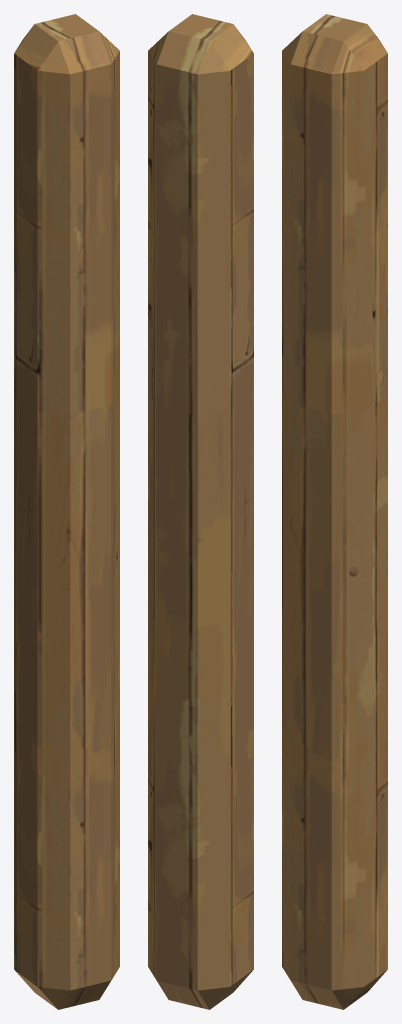
File: wood_deco1_cute.glb
3 renders of one model, left to right at view 1: azimuth 30°, elevation 25°; view 2: azimuth 150°, elevation 25°; view 3: azimuth 330°, elevation 25°, orthographic.
Parts seen in each view (by area): view 1: wood_deco4; view 2: wood_deco4; view 3: wood_deco4.
Boxes of the visible parts, x1,y1,x2,y2 form: wood_deco4: (14, 14, 119, 1009); wood_deco4: (148, 14, 253, 1009); wood_deco4: (282, 14, 387, 1009).
Size of the model in its own units: 0.0665 by 0.7488 by 0.0665.
Materials: 1 (1 with a texture image).
